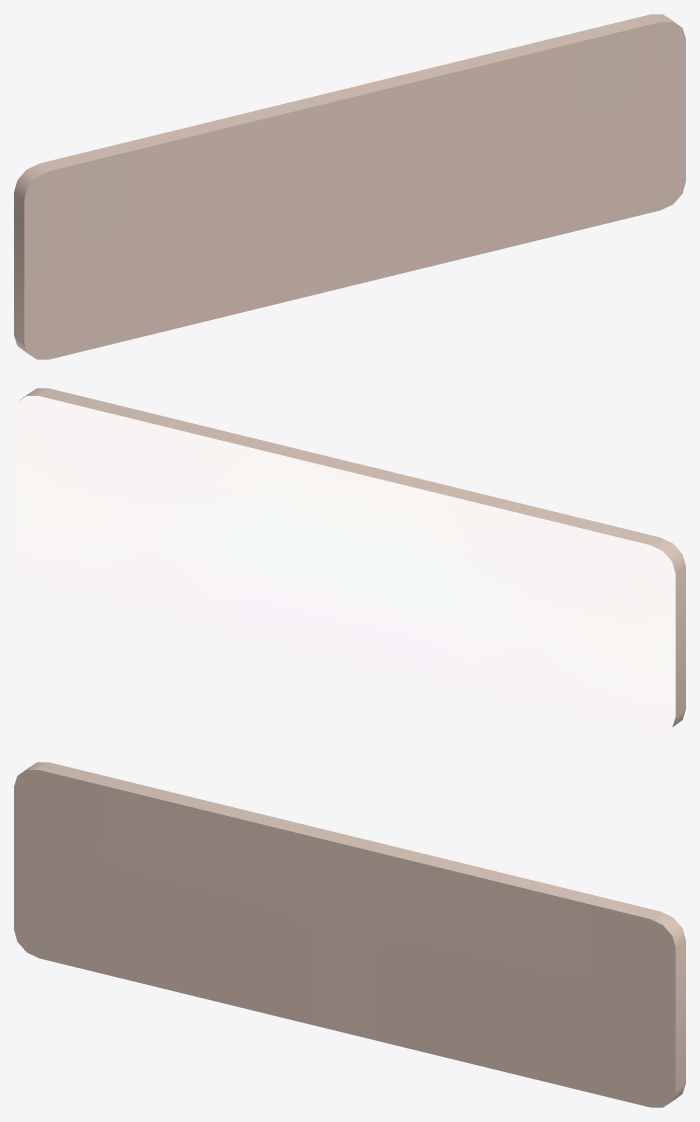
Rendered from vw_card_clickable.glb.
The picture shows the model from 3 angles, top to bottom: view 1: azimuth 30°, elevation 25°; view 2: azimuth 150°, elevation 25°; view 3: azimuth 330°, elevation 25°; orthographic projection.
Visible parts, largest first — view 1: collection_card; view 2: collection_card; view 3: collection_card.
Part boxes in pixels (x1,y1,x2,y2): collection_card: [14, 14, 685, 359]; collection_card: [14, 388, 685, 733]; collection_card: [14, 762, 685, 1107].
Bounding box in the file's own units: 1.17 × 0.3175 × 0.0316.
1 material, 1 textured.
